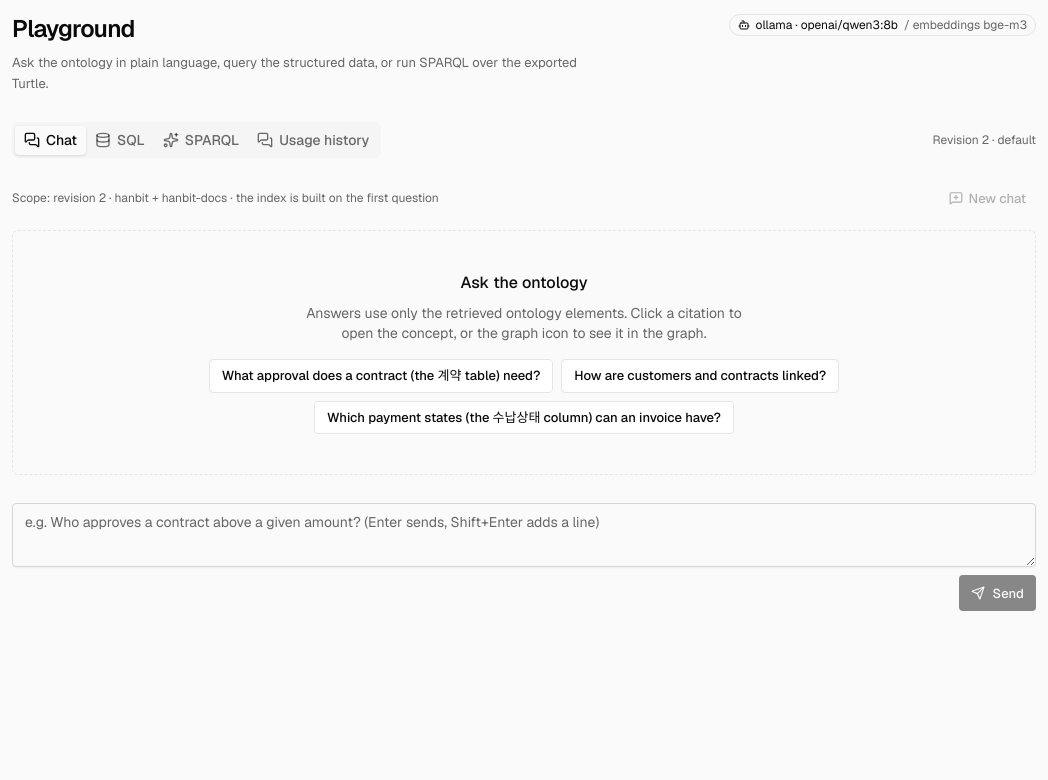
Scenario: playground page › marks a truncated answer as incomplete and shows the error
This screenshot has width=1048, height=780.
Type "계약이란?" into the text box named "Question" at (524, 536), box [12,504,1036,568]
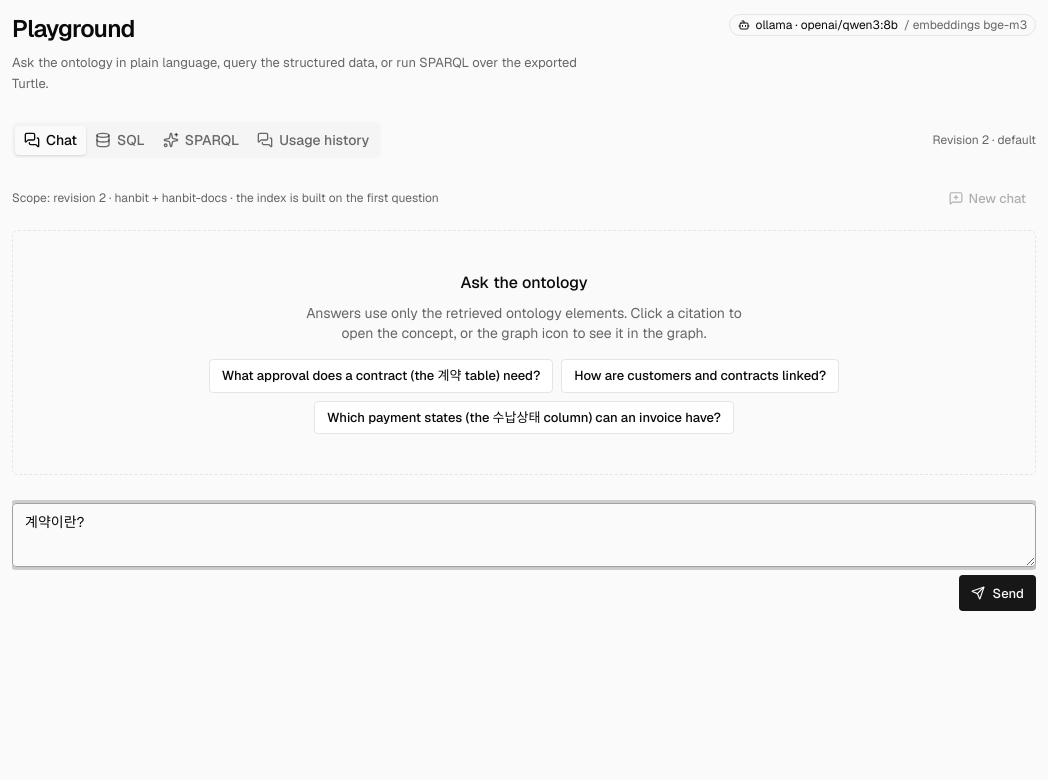
Click the button "Send" at (997, 594), box [959,576,1036,612]
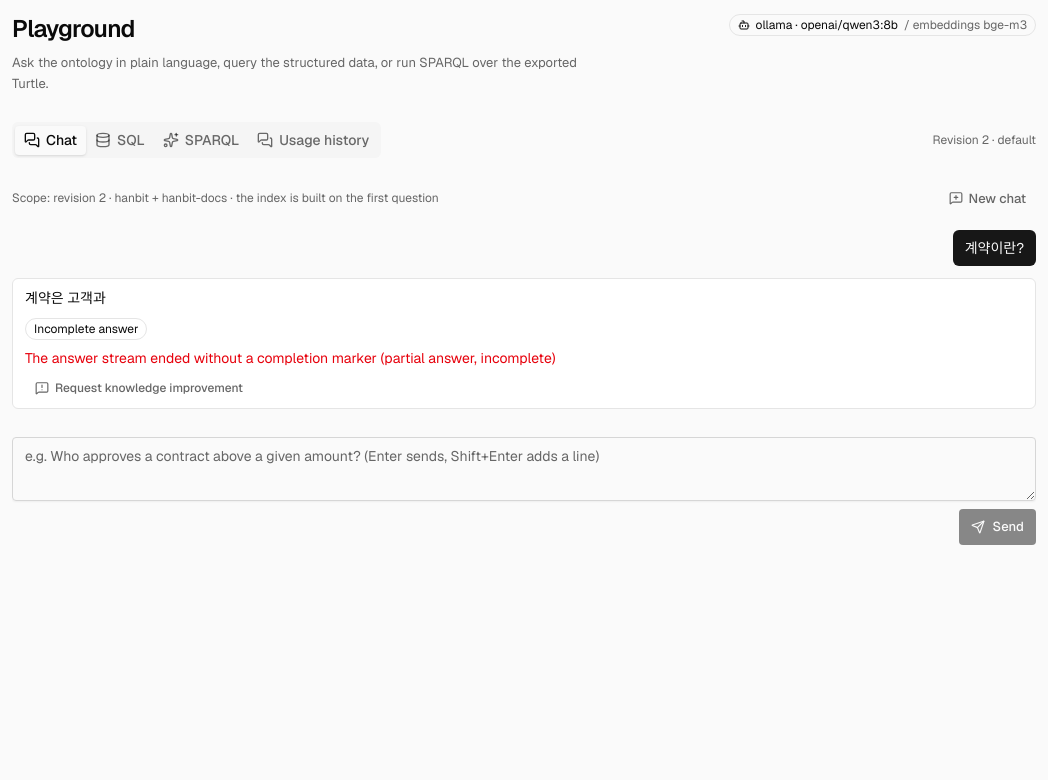
expect the text "Incomplete answer" is shown: met, box [25,318,148,340]
expect the message shows "ended without a completion marker": met, box [25,349,556,367]
